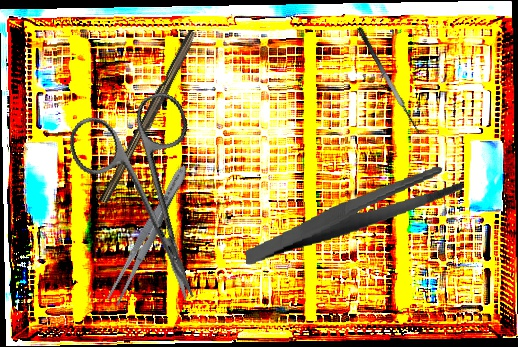Dressing Forceps: (238, 163, 469, 267), (103, 161, 194, 308)
Iris Scissors: (62, 87, 242, 320)
Scalpel Handle: (99, 28, 200, 207)
Spatula Surgical: (355, 21, 430, 140)
